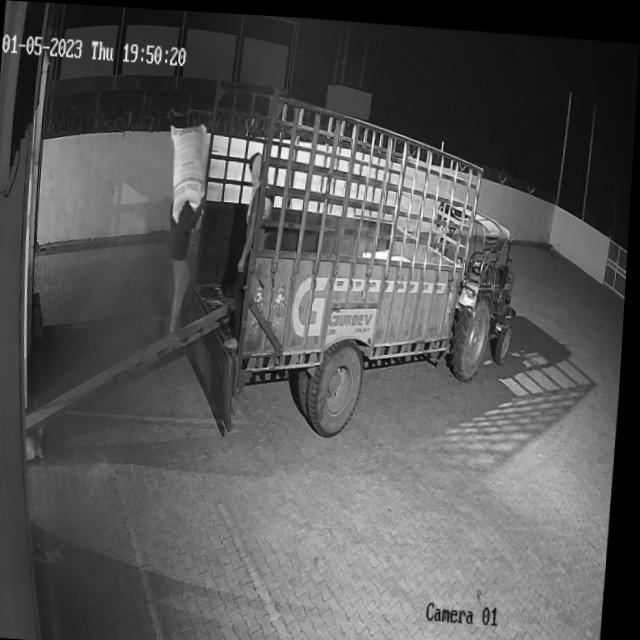sack: (166, 120, 210, 221)
